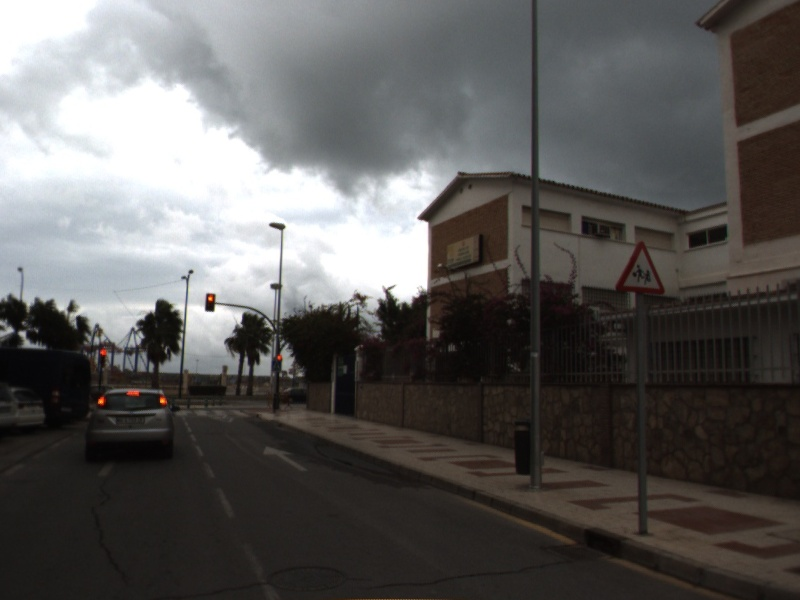STRAIGHT: (261, 445, 311, 473)
